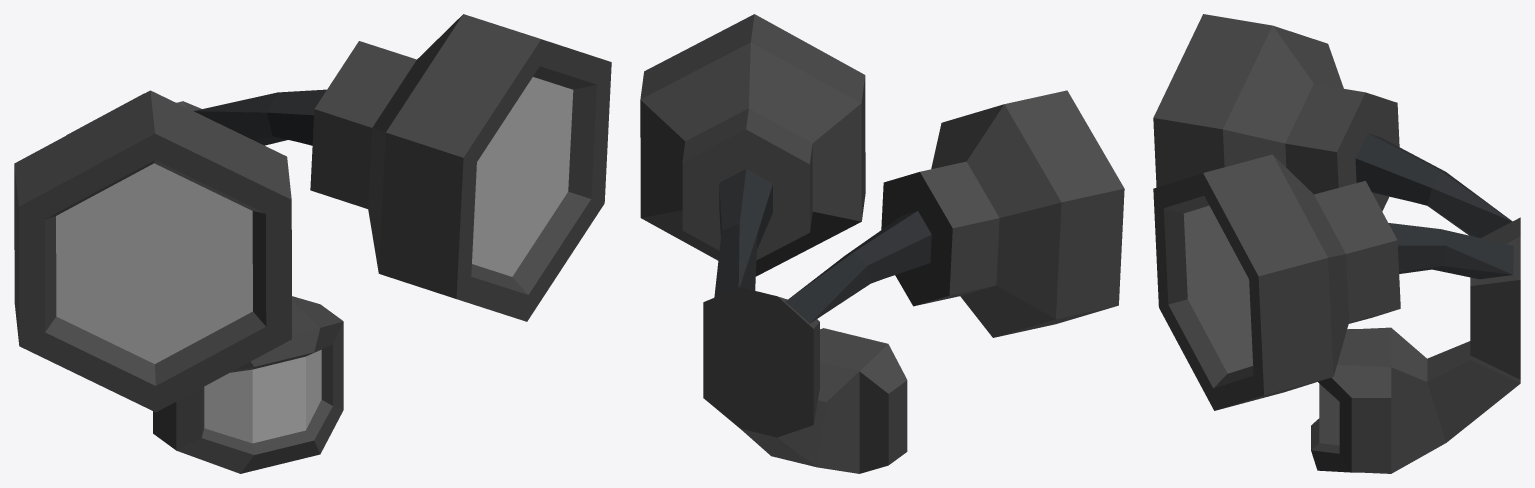
The model's file is FloodLight.obj.
3 renders of one model, left to right at view 1: azimuth 30°, elevation 25°; view 2: azimuth 150°, elevation 25°; view 3: azimuth 270°, elevation 25°, orthographic. The views are drawn at different scales.
Size of the model in its own units: 0.5 by 0.3477 by 0.3178.
Materials: 1 (1 with a texture image).
